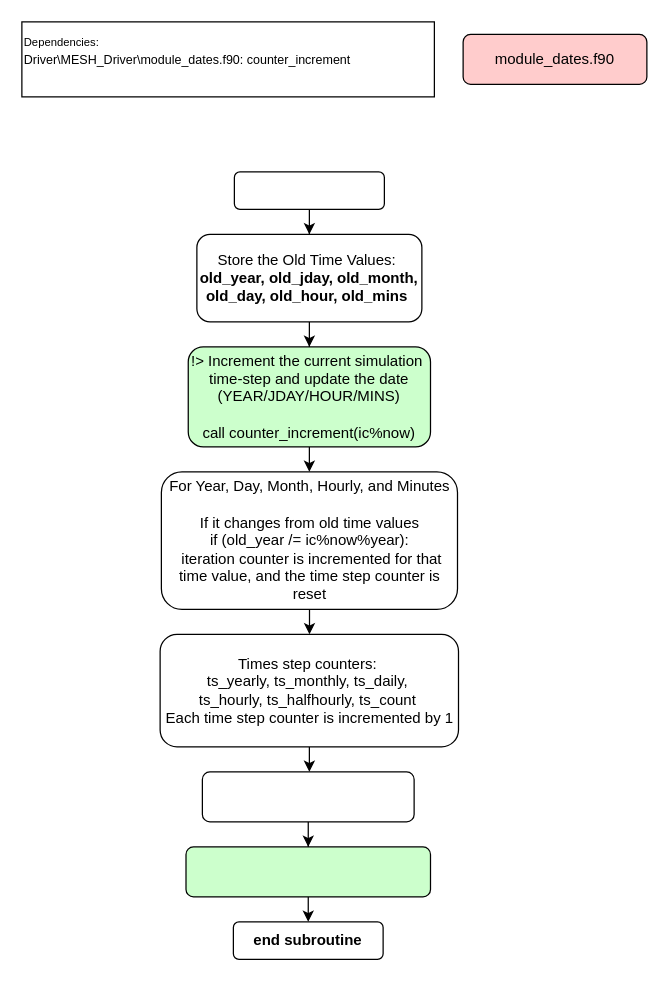
Some shapes in this 669 by 981 pixel diagram are drawn without their labels. Each missing label, with the centre of its shape:
"!> Increment the 'next' counter. call counter_increment(ic%next)" goes at (x=307, y=871).
"counter_update()" goes at (x=308, y=190).
"Set the 'next' counter to 'now'" goes at (x=307, y=796).
